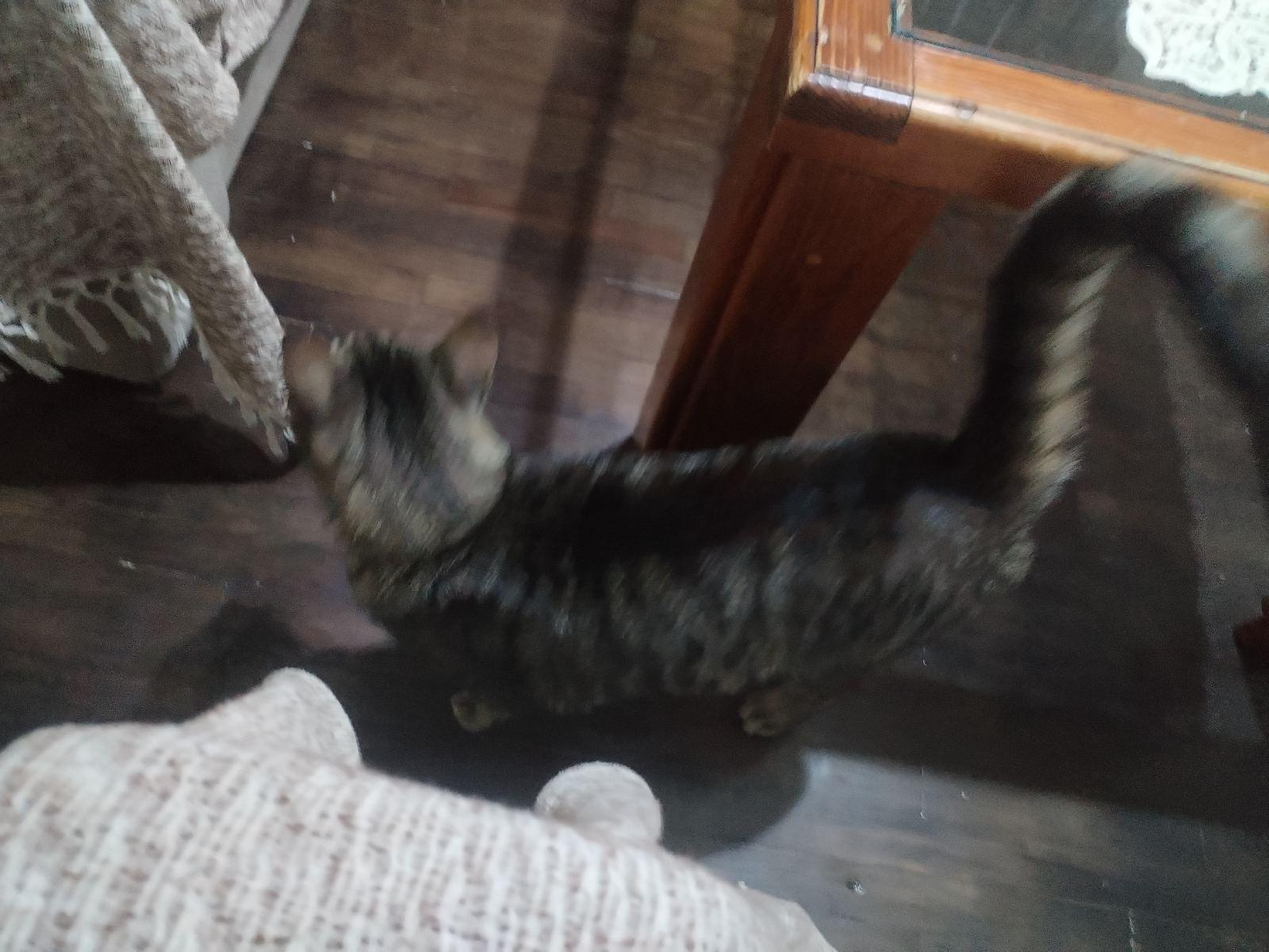macka: (273, 148, 1268, 746)
